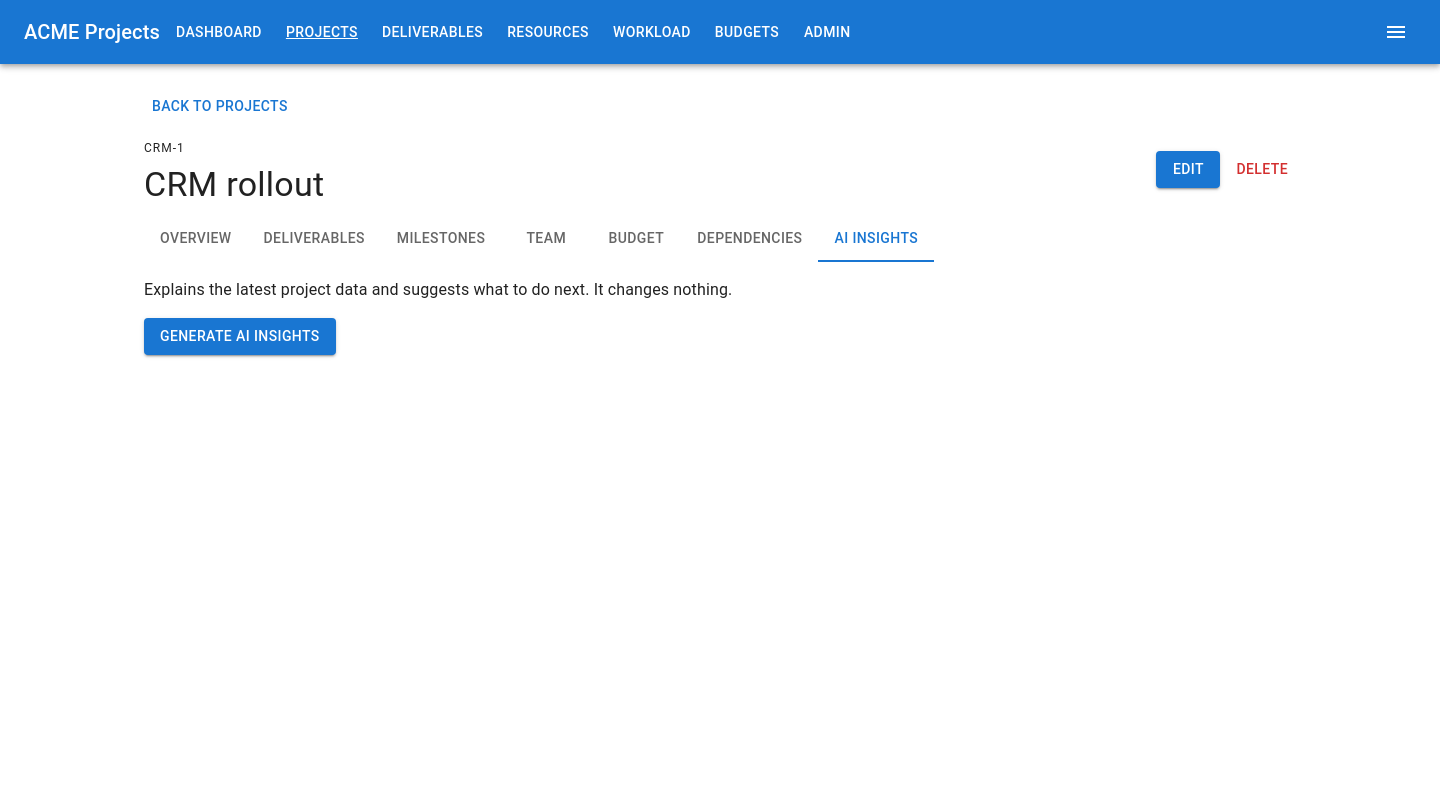
Test: AI insights › explains errors, lets the user retry and keeps the page working
Click the button "Generate AI Insights": point(240, 337) x1=144 y1=318 x2=336 y2=355
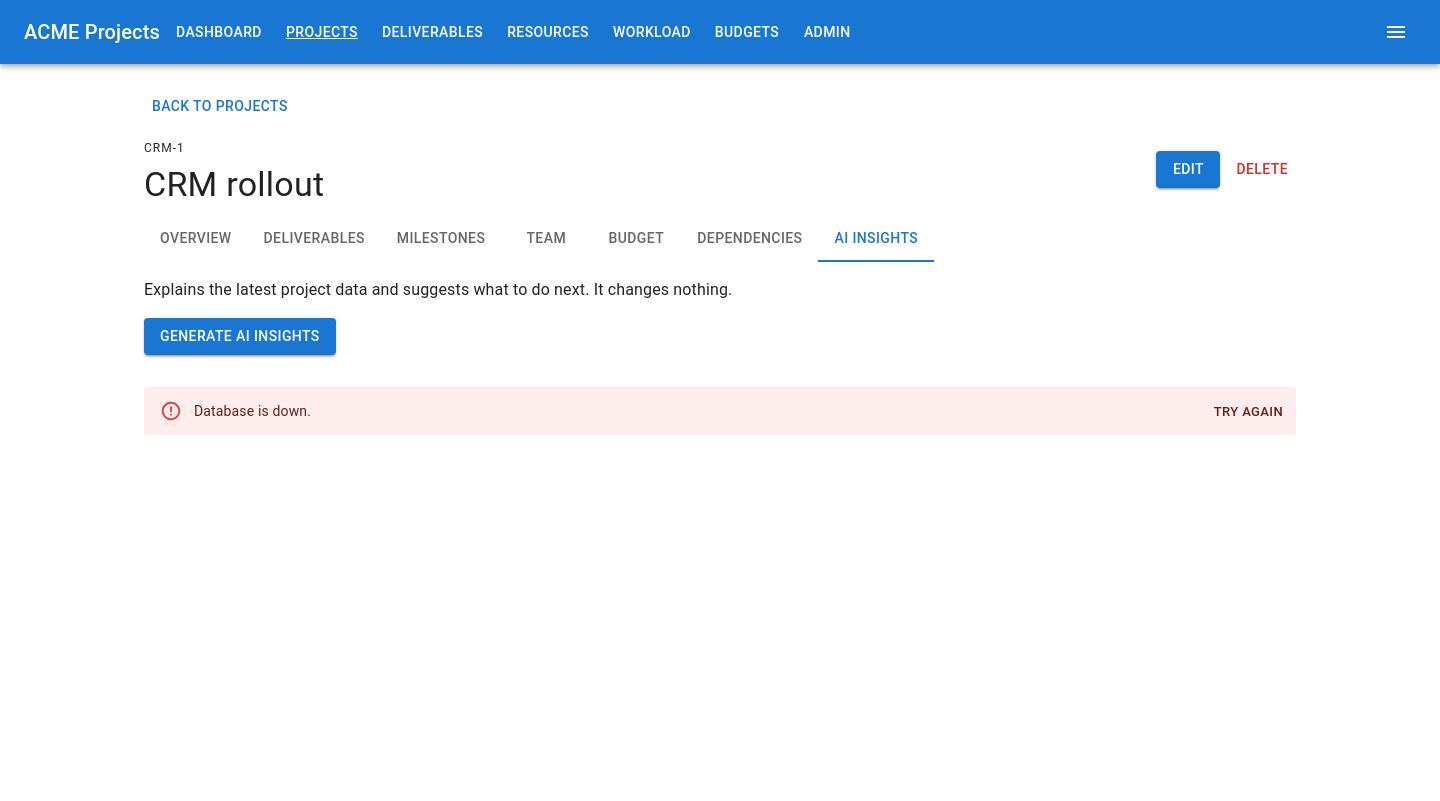
Now the text "Database is down." is shown, box x1=194 y1=403 x2=311 y2=419
Click the button "Try again": point(1248, 412) x1=1209 y1=397 x2=1288 y2=428
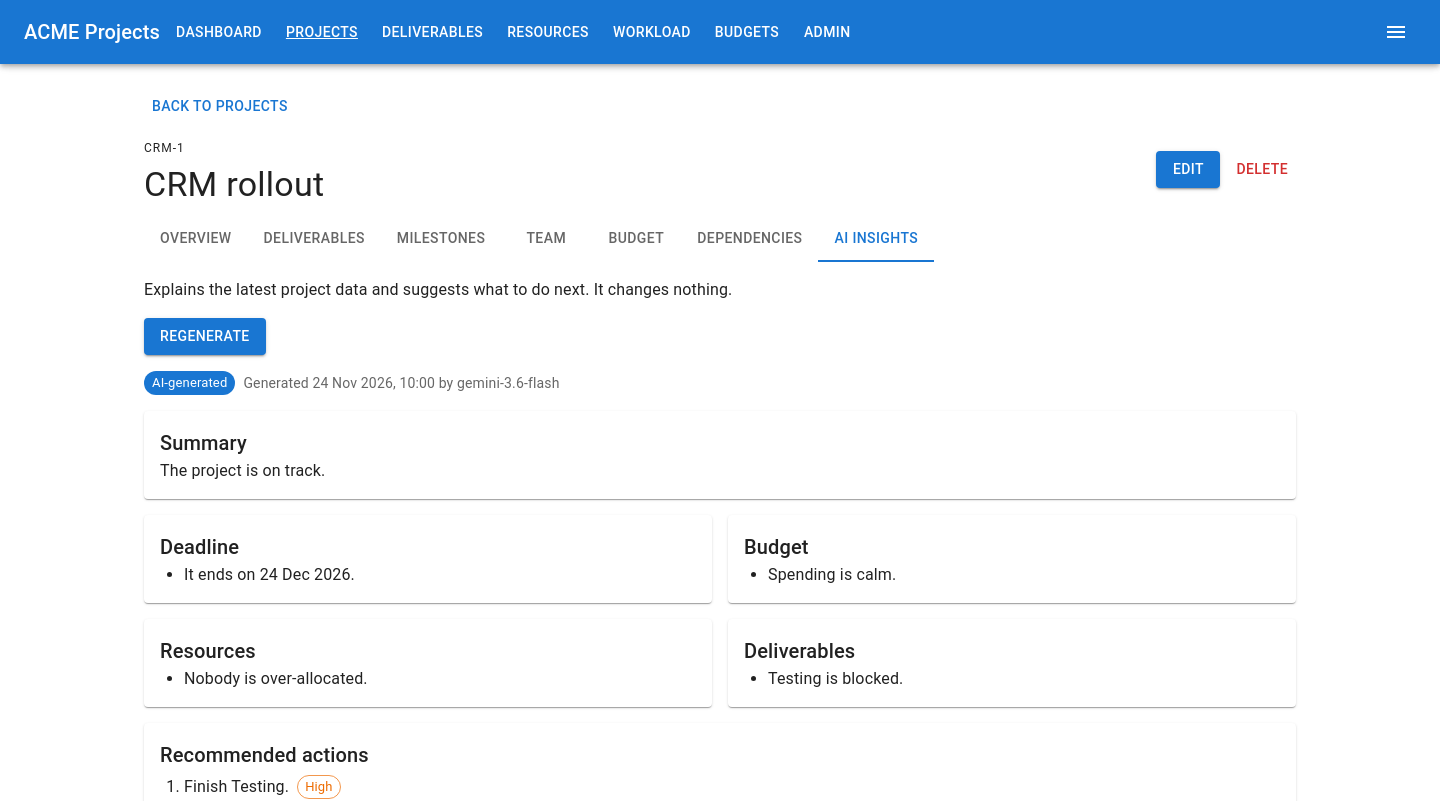
Now the text "AI-generated" is shown, box x1=152 y1=375 x2=227 y2=390
Click the tab "Overview": point(196, 238) x1=144 y1=214 x2=248 y2=262
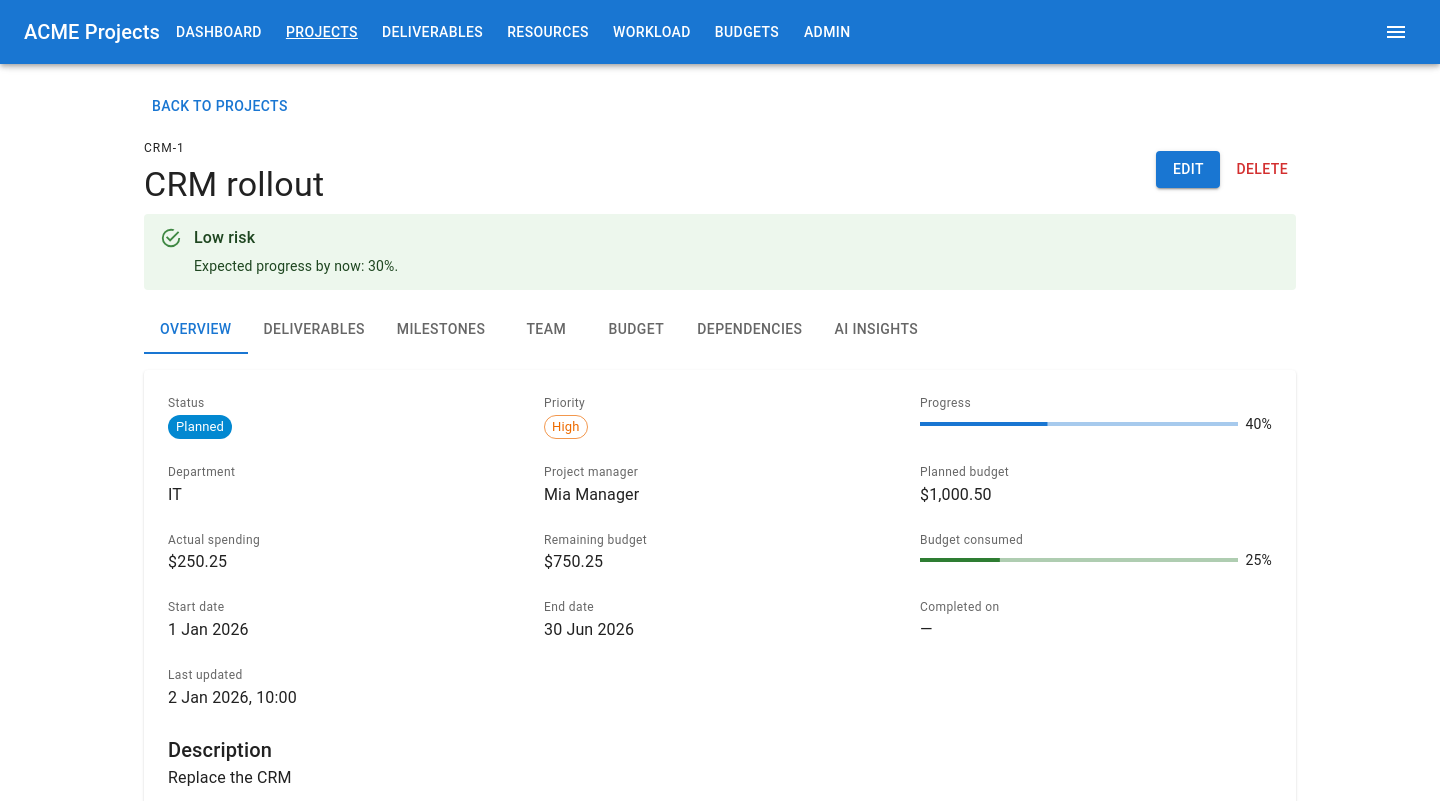
Now the text "Replace the CRM" is shown, box x1=168 y1=768 x2=292 y2=787
